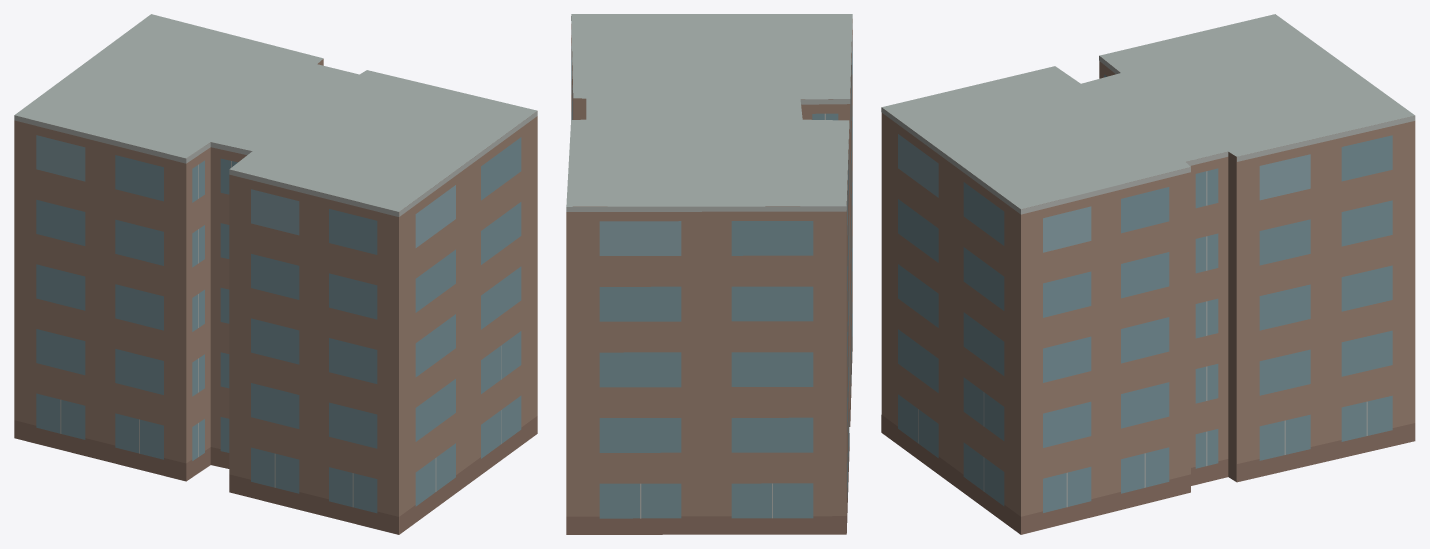
File: survey-upis-32712005.glb
3 views of the same model, side by side, from view 1: azimuth 30°, elevation 25°; view 2: azimuth 150°, elevation 25°; view 3: azimuth 270°, elevation 25° (orthographic).
Visible parts, largest first — view 1: survey-upis-32712005.tmp; view 2: survey-upis-32712005.tmp; view 3: survey-upis-32712005.tmp.
Part boxes in pixels (bbox=[...]): survey-upis-32712005.tmp: bbox=[14, 14, 537, 534]; survey-upis-32712005.tmp: bbox=[566, 14, 852, 534]; survey-upis-32712005.tmp: bbox=[881, 14, 1415, 534].
Bounding box in the file's own units: 19.64 × 15.25 × 22.68.
